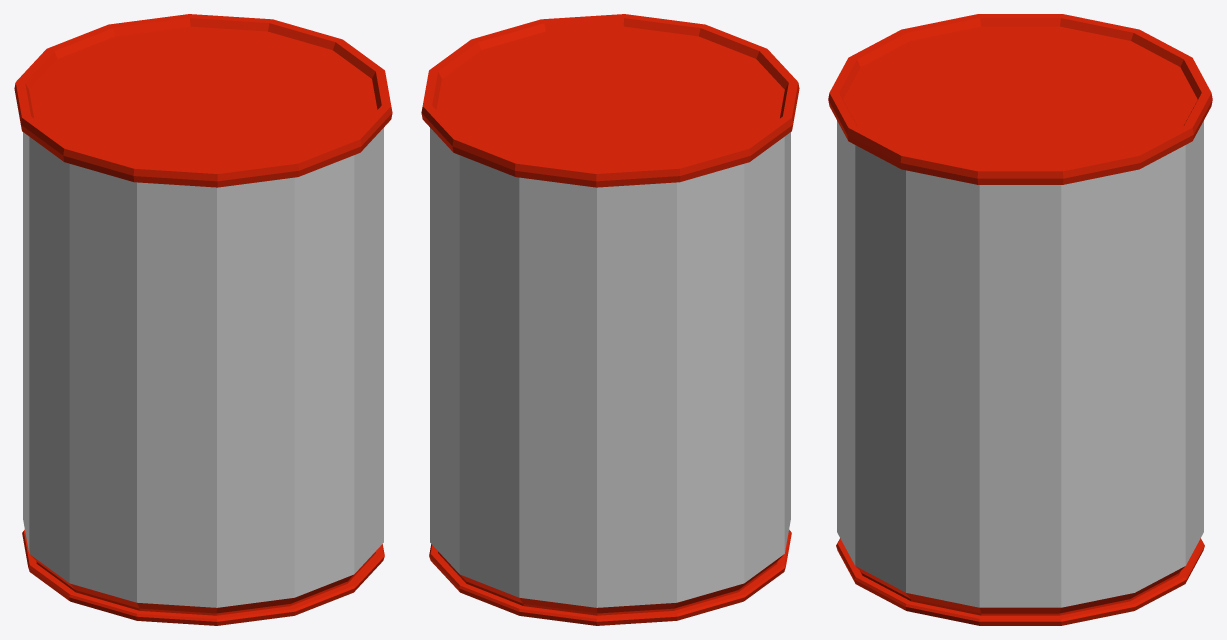
File: ração enlatada.fbx
The picture shows the model from 3 angles, left to right: view 1: azimuth 30°, elevation 25°; view 2: azimuth 150°, elevation 25°; view 3: azimuth 270°, elevation 25°; orthographic projection.
Parts seen in each view (by area): view 1: Circle; view 2: Circle; view 3: Circle.
Boxes of the visible parts, box(x1,y1,x2,y2) form: Circle: box(14, 14, 392, 625); Circle: box(421, 14, 799, 625); Circle: box(828, 14, 1212, 625).
Size of the model in its own units: 14.34 by 19.33 by 14.71.
